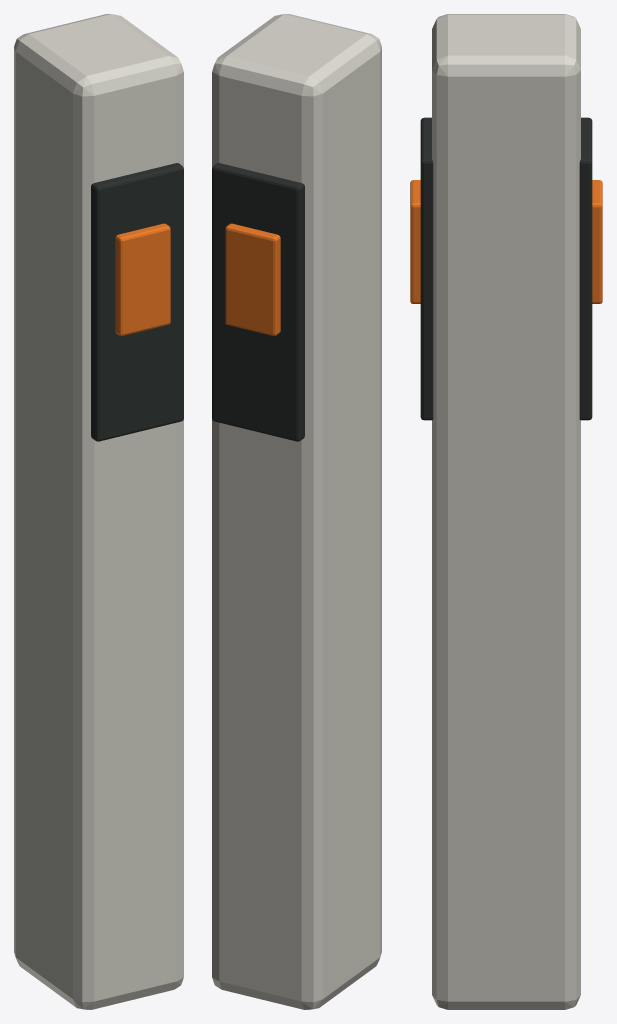
File: Delineator_A_LOD0.fbx
The picture shows the model from 3 angles, left to right: view 1: azimuth 30°, elevation 25°; view 2: azimuth 150°, elevation 25°; view 3: azimuth 270°, elevation 25°; orthographic projection. The views are drawn at different scales.
Visible parts, largest first — view 1: Delineator_A_LOD0; view 2: Delineator_A_LOD0; view 3: Delineator_A_LOD0.
Part boxes in pixels (bbox=[...]): Delineator_A_LOD0: bbox=[14, 14, 183, 1009]; Delineator_A_LOD0: bbox=[212, 14, 381, 1009]; Delineator_A_LOD0: bbox=[410, 14, 602, 1009].
Bounding box in the file's own units: 0.13 × 1.06 × 0.194.
